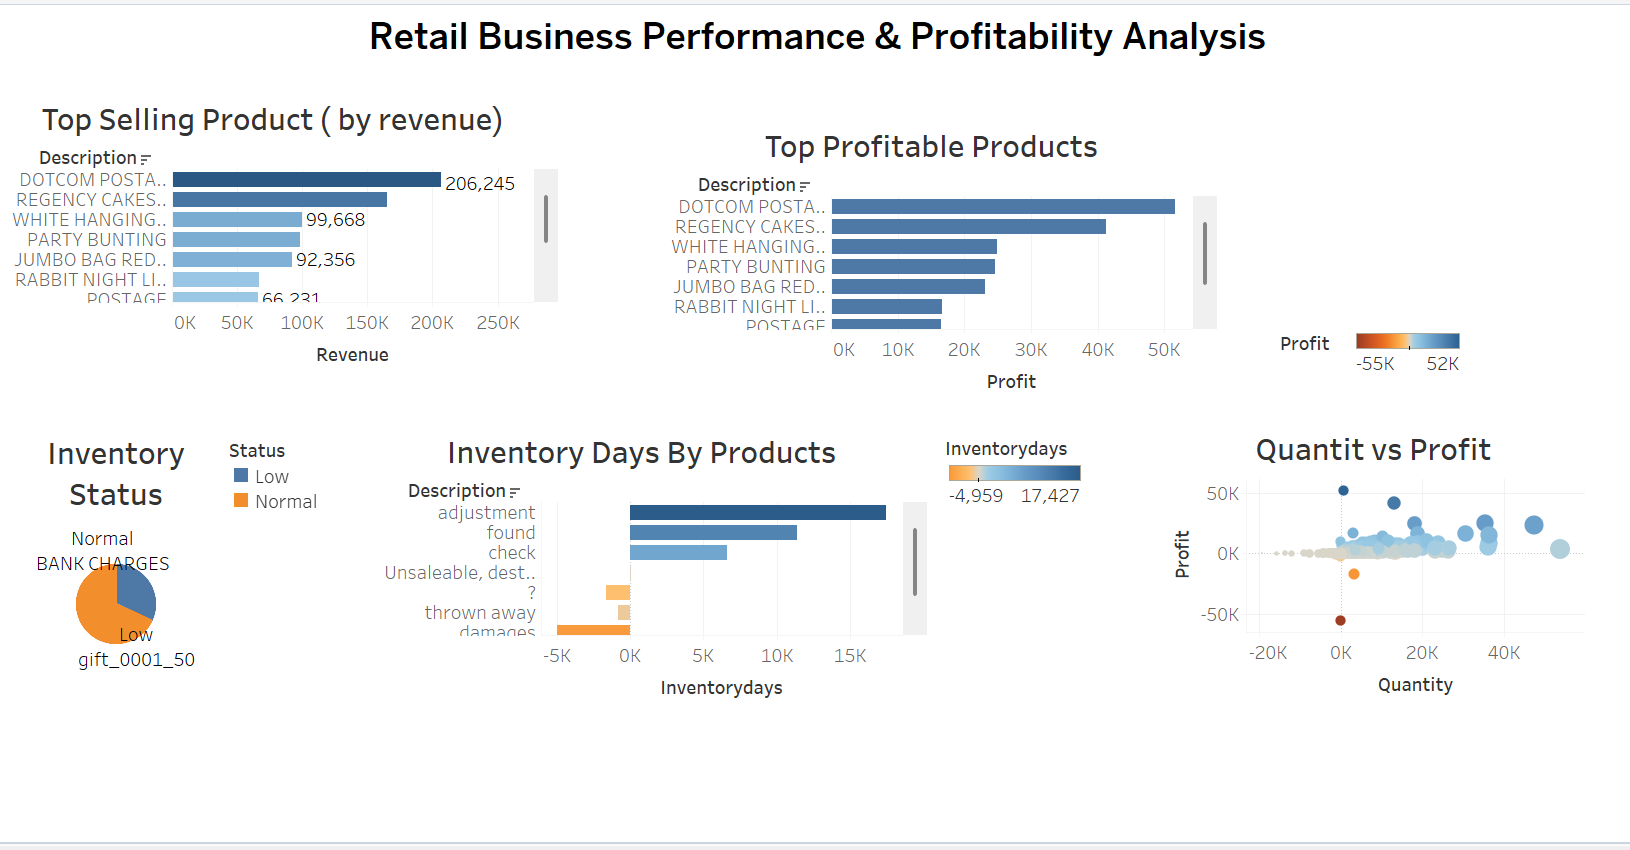

What the dashboard file says about the page in this screenshot:
{"tool":"tableau","page":{"name":"Dashboard 1","canvas":[1000,1000],"units":"permille","ordinal":0},"visuals":[{"type":"title","box":[4.9,9.5,990.2,61.8]},{"type":"worksheet","title":"Sheet 1","mark":"Automatic","rows":["description"],"cols":["revenue"],"box":[8.5,107,333.1,332.9]},{"type":"worksheet","title":"Sheet 2","mark":"Automatic","rows":["description"],"cols":["profit"],"box":[410.6,139.1,333.1,332.9]},{"type":"legend","title":"Sheet 5","param":"[federated.08nydky1733yqu12imsld17odr90].[sum:profit:qk]","box":[782.2,387.6,112.3,61.8]},{"type":"worksheet","title":"Sheet 5","mark":"Circle","rows":["profit"],"cols":["quantity"],"box":[710.2,499.4,258.1,332.9]},{"type":"worksheet","title":"Sheet 4","mark":"Automatic","rows":["description"],"cols":["inventorydays"],"box":[233.7,503,333.1,332.9]},{"type":"worksheet","title":"Sheet 3","mark":"Pie","box":[23.2,504.2,128.7,342.4]},{"type":"legend","title":"Sheet 4","param":"[federated.08nydky1733yqu12imsld17odr90].[sum:inventorydays:qk]","box":[577.8,513.7,85.4,118.9]},{"type":"legend","title":"Sheet 3","param":"[federated.08nydky1733yqu12imsld17odr90].[none:status:nk]","box":[140.9,516,85.4,90.4]}]}

Visuals, with their boxes on the dashboard's canvas, which has no fixed pixel size, in thousandths of its width and height (x1, y1, x2, y2). These are canvas units, not pixel positions in the 1630x850 screenshot, which may show the page scaled, cropped or inside an application window:
title: <bbox>5, 10, 995, 71</bbox>
"Sheet 1" worksheet: <bbox>8, 107, 342, 440</bbox>
"Sheet 2" worksheet: <bbox>411, 139, 744, 472</bbox>
"Sheet 5" legend: <bbox>782, 388, 894, 449</bbox>
"Sheet 5" worksheet (Circle marks): <bbox>710, 499, 968, 832</bbox>
"Sheet 4" worksheet: <bbox>234, 503, 567, 836</bbox>
"Sheet 3" worksheet (Pie marks): <bbox>23, 504, 152, 847</bbox>
"Sheet 4" legend: <bbox>578, 514, 663, 633</bbox>
"Sheet 3" legend: <bbox>141, 516, 226, 606</bbox>
